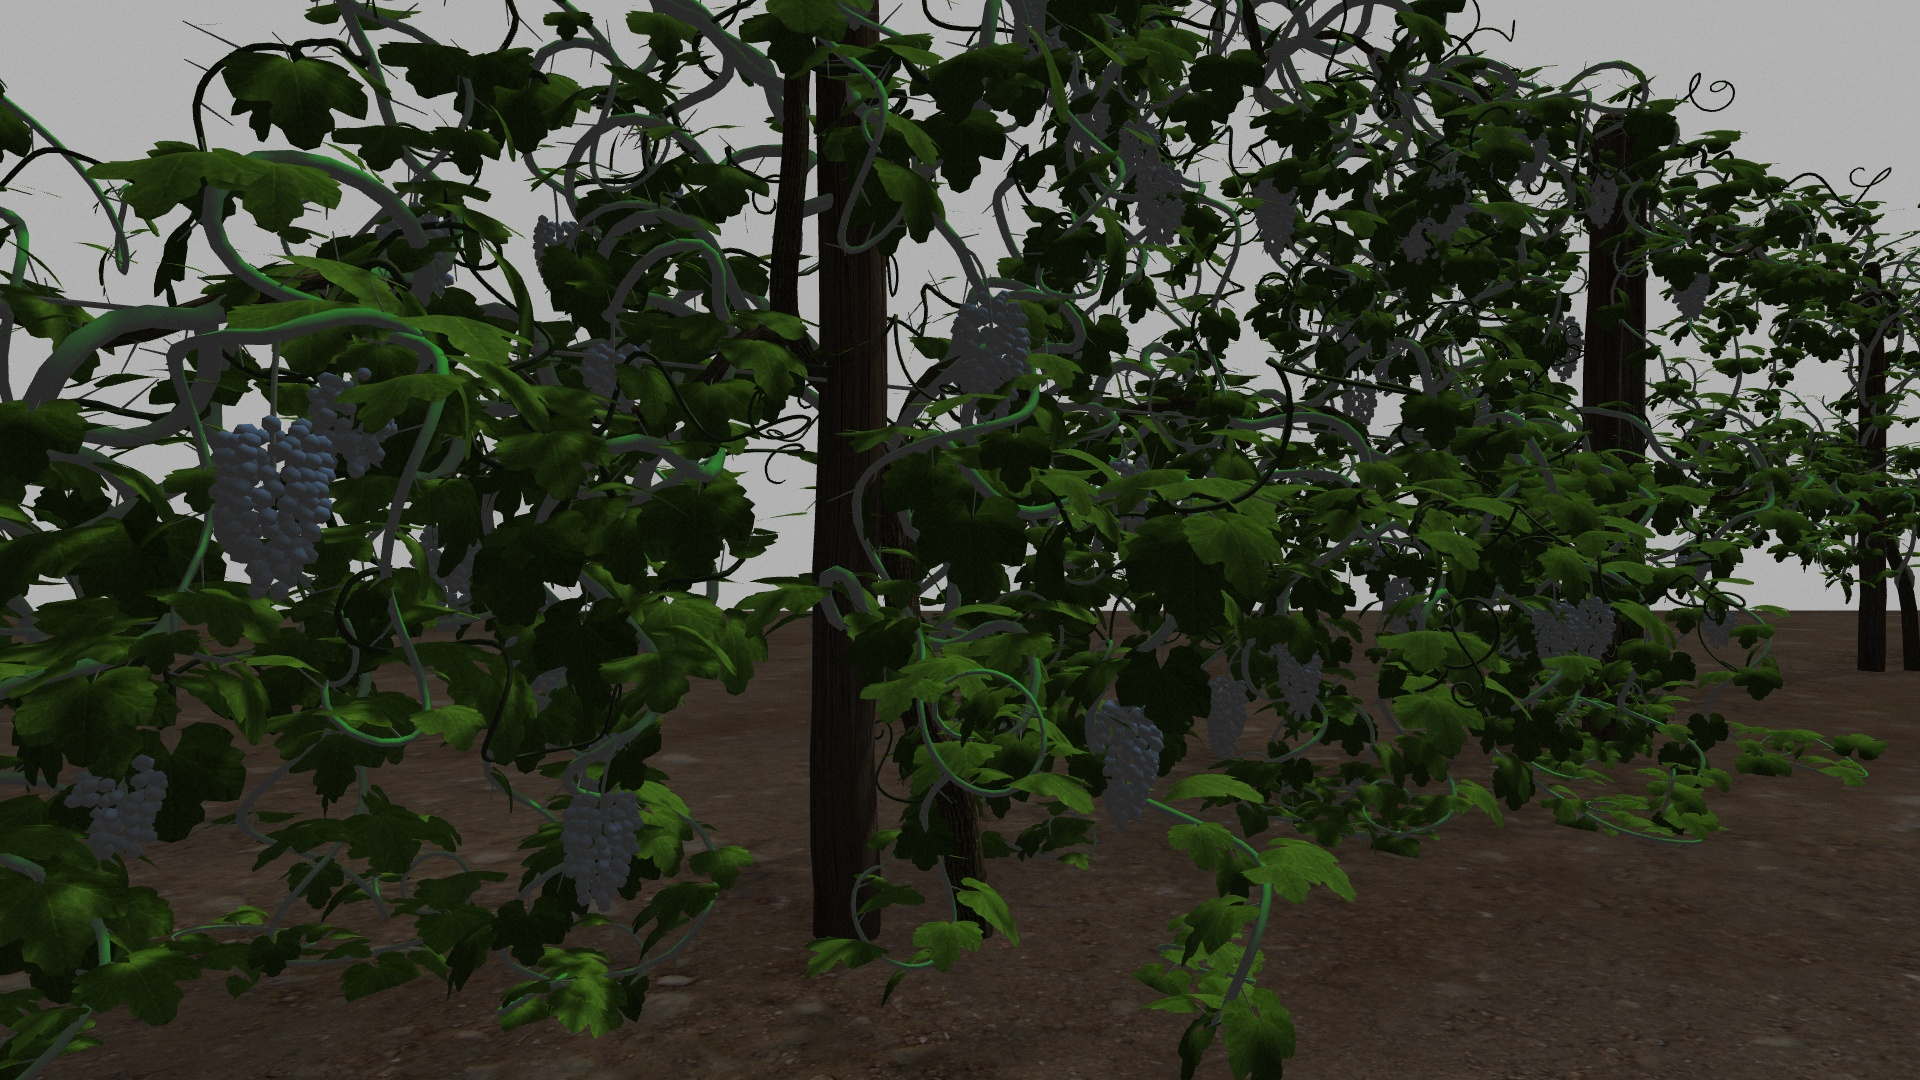grape: (210, 418, 338, 608), (57, 749, 169, 858), (560, 786, 644, 918), (307, 365, 400, 477), (1091, 702, 1166, 833), (948, 291, 1033, 402), (1133, 156, 1185, 248), (579, 339, 642, 415), (1201, 673, 1247, 764), (1276, 642, 1327, 723), (1251, 174, 1299, 258), (1423, 171, 1472, 243), (1534, 601, 1578, 666), (1577, 596, 1615, 665), (1671, 262, 1713, 320), (1581, 167, 1619, 228), (1337, 376, 1377, 429), (1116, 123, 1160, 162), (1704, 605, 1737, 653)
